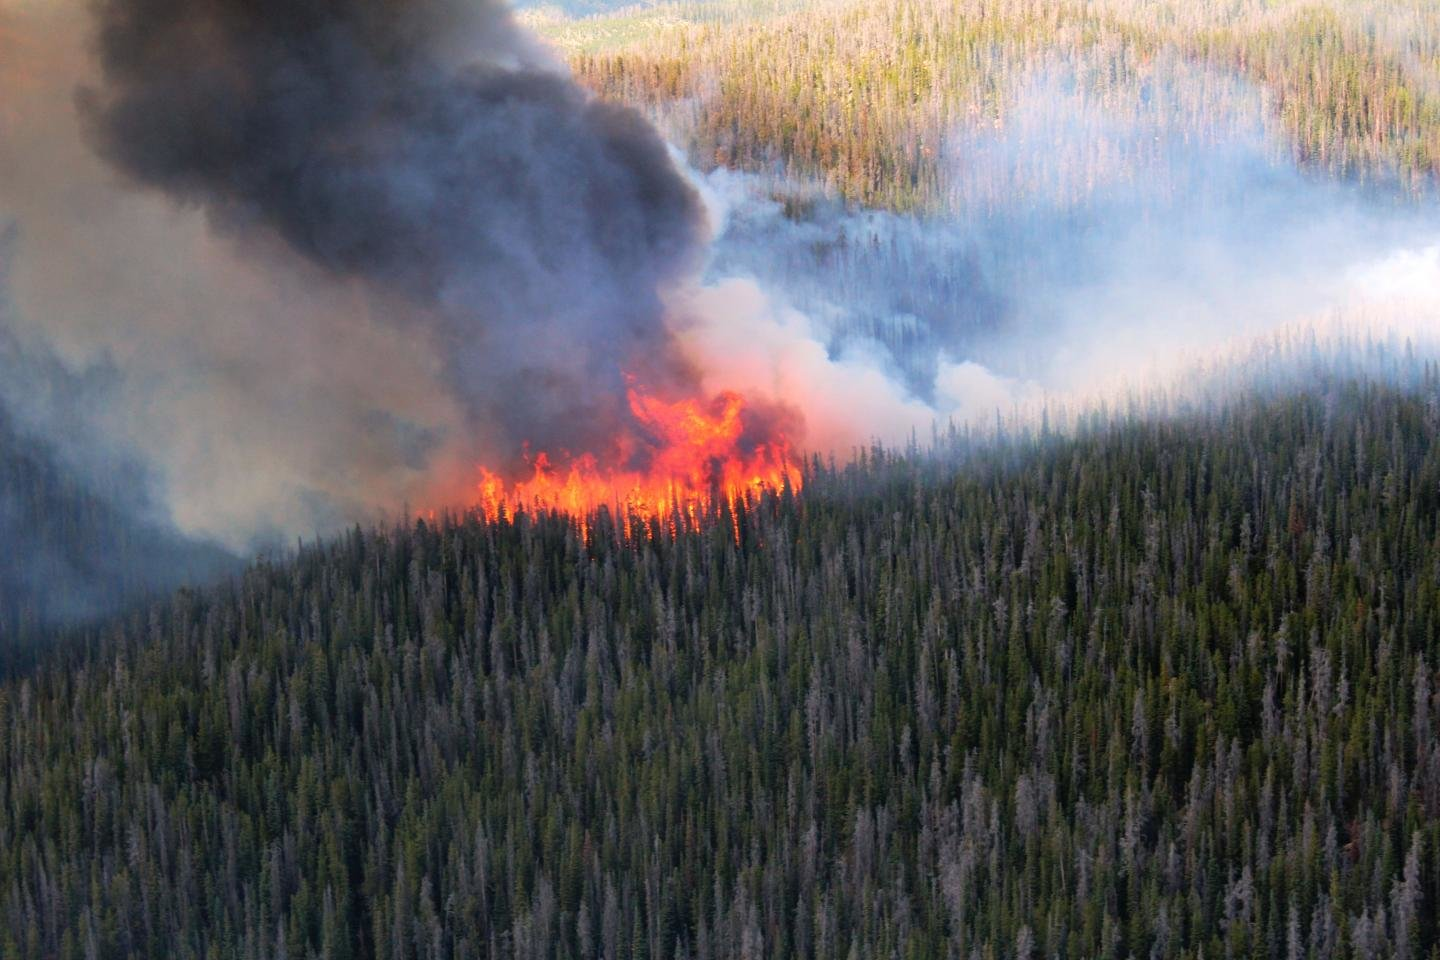fire: (437, 357, 814, 550)
